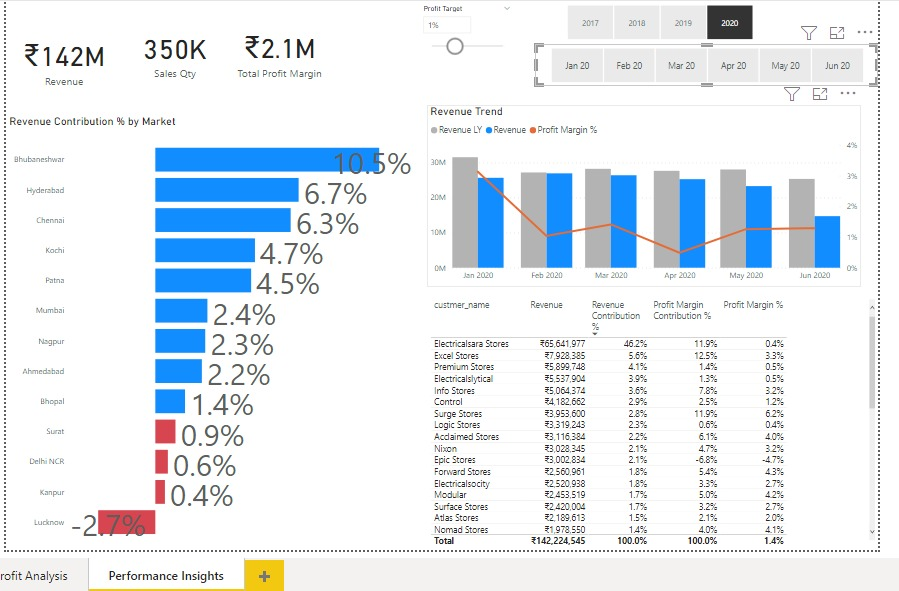

Layout of this report page (visuals, bound fields, positions):
{"tool":"powerbi","page":{"name":"Performance Insights","canvas":[1350,850],"ordinal":2},"visuals":[{"type":"card","fields":{"Values":["BaseMeasures (2).Revenue"]},"box":[0,0,179.6,184.8],"z":0},{"type":"card","fields":{"Values":["BaseMeasures (2).Sales Qty"]},"box":[179.6,0,164.1,161],"z":1000},{"type":"slicer","fields":{"Values":["sales date.year"]},"box":[844.4,0,335.5,66.1],"z":2000},{"type":"slicer","fields":{"Values":["sales date.cy_date"]},"box":[818.6,66.1,531.6,66.1],"z":3000},{"type":"tableEx","title":"Top 5 Customers","fields":{"Values":["sales customers.custmer_name","BaseMeasures (2).Revenue","BaseMeasures (2).Revenue Contribution %","BaseMeasures (2).Profit Margin Contribution %","BaseMeasures (2).Profit Margin %"]},"box":[651.4,457.3,698.8,392.3],"z":4000},{"type":"lineClusteredColumnComboChart","title":"Revenue Trend","fields":{"Category":["sales date.cy_date"],"Y":["BaseMeasures (2).Revenue LY","BaseMeasures (2).Revenue"],"Y2":["BaseMeasures (2).Profit Margin %"]},"box":[651.4,161,672,281.8],"z":5000},{"type":"card","fields":{"Values":["BaseMeasures (2).Total Profit Margin"]},"box":[344,0,160.3,160.3],"z":6000},{"type":"barChart","title":"Revenue Contribution % by Market","fields":{"Y":["BaseMeasures (2).Profit Margin %"],"Category":["sales markets.zone","sales markets.markets_name","sales customers.custmer_name","sales products.product_code"]},"box":[0,176.3,633.4,673],"z":7000},{"type":"slicer","fields":{"Values":["Profit Target.Profit Target"]},"box":[633.4,0,159.7,131.5],"z":8000}]}

Visuals, with their boxes on the page's 1350x850 design canvas (x1, y1, x2, y2). These are canvas units, not pixel positions in the 899x591 screenshot, which may show the page scaled, cropped or inside an application window:
card - BaseMeasures (2).Revenue: [0,0,180,185]
card - BaseMeasures (2).Sales Qty: [180,0,344,161]
slicer - sales date.year: [844,0,1180,66]
slicer - sales date.cy_date: [819,66,1350,132]
"Top 5 Customers" tableEx: [651,457,1350,850]
"Revenue Trend" lineClusteredColumnComboChart: [651,161,1323,443]
card - BaseMeasures (2).Total Profit Margin: [344,0,504,160]
"Revenue Contribution % by Market" barChart: [0,176,633,849]
slicer - Profit Target.Profit Target: [633,0,793,132]
